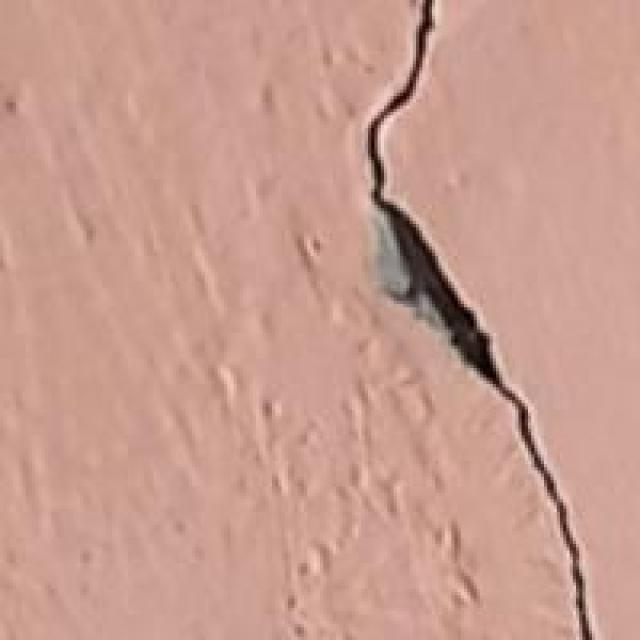crack: (354, 0, 610, 640)
